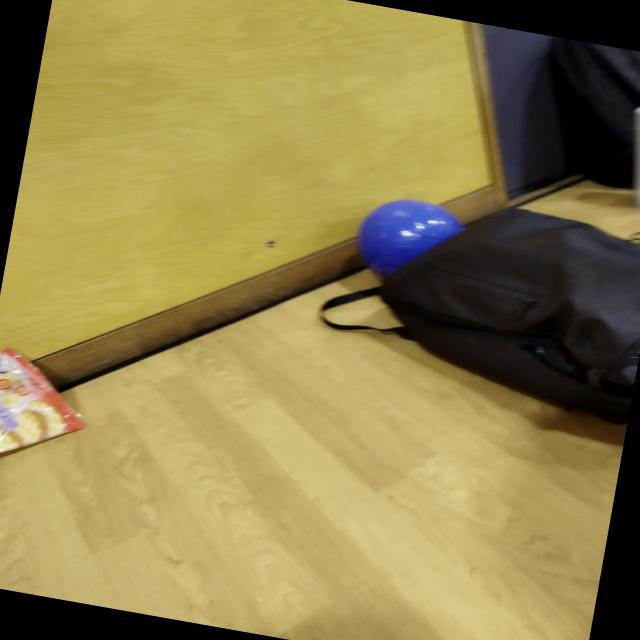blue_ball: (357, 193, 462, 290)
